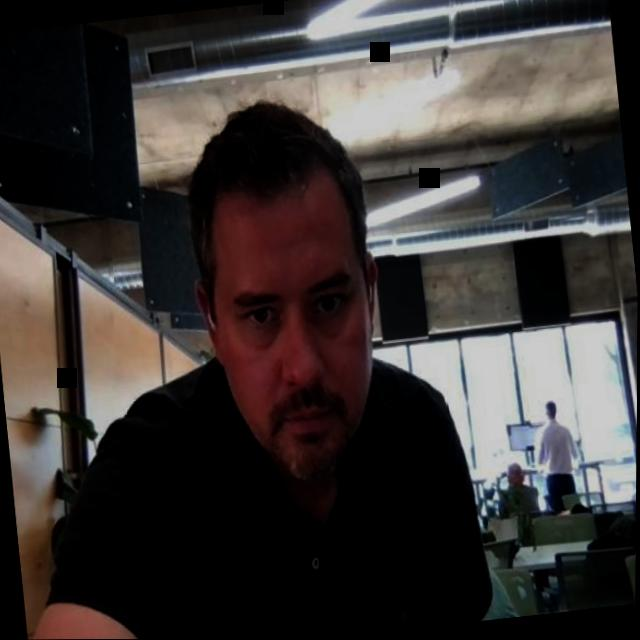NO-Mask: (175, 90, 402, 500)
